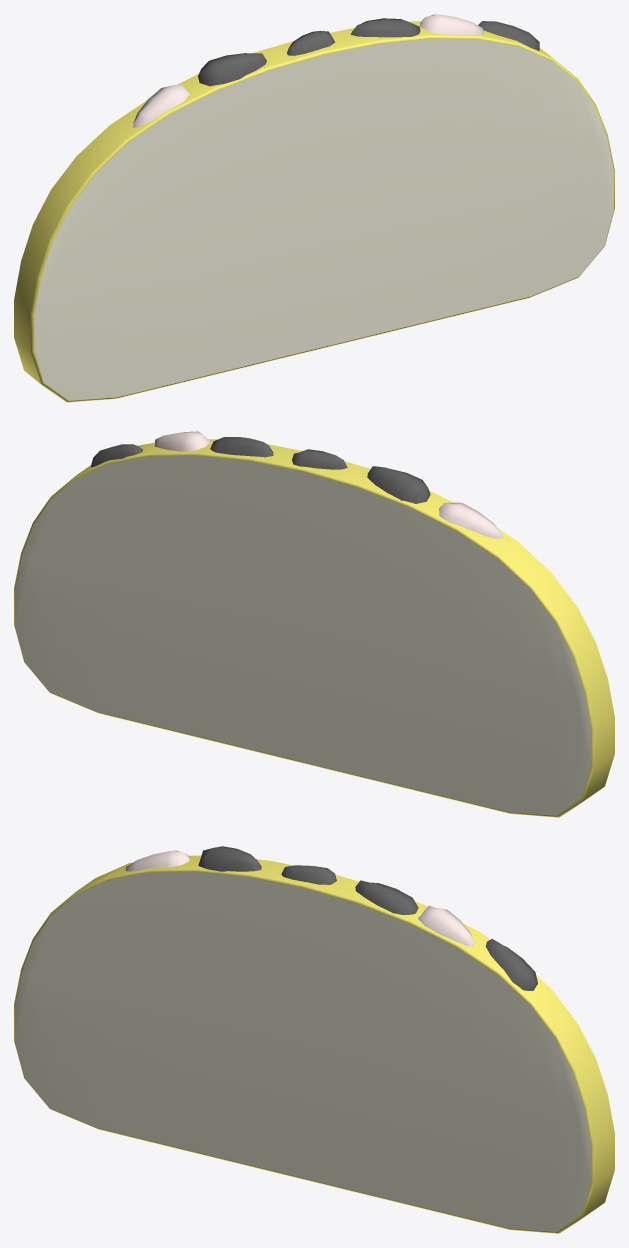
The model's file is Bread_1_Slice.fbx.
3 renders of one model, top to bottom at view 1: azimuth 30°, elevation 25°; view 2: azimuth 150°, elevation 25°; view 3: azimuth 330°, elevation 25°, orthographic.
Visible parts, largest first — view 1: Bread_1_Slice; view 2: Bread_1_Slice; view 3: Bread_1_Slice.
Boxes of the visible parts, x1=… form: Bread_1_Slice: x1=14, y1=14, x2=614, y2=402; Bread_1_Slice: x1=14, y1=431, x2=614, y2=817; Bread_1_Slice: x1=14, y1=846, x2=614, y2=1233.
Size of the model in its own units: 33.06 by 16.58 by 2.07.
